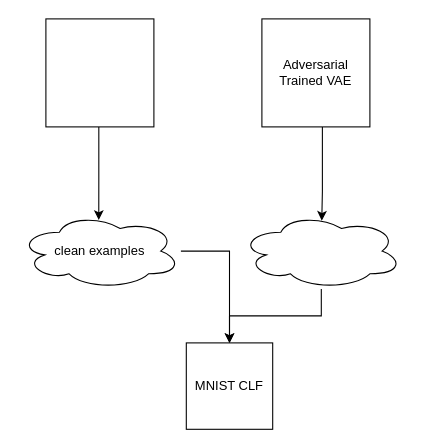
The diagram is 421 pixels wide and 448 high, and some of its shapes have lost their labels. Each missing label, with the centre of its shape:
"adv examples" goes at point (320, 250).
"Clean Trained VAE" goes at point (99, 72).
